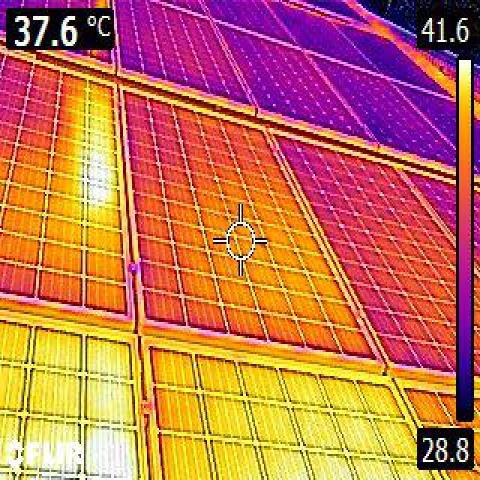fault: (79, 138, 114, 210)
